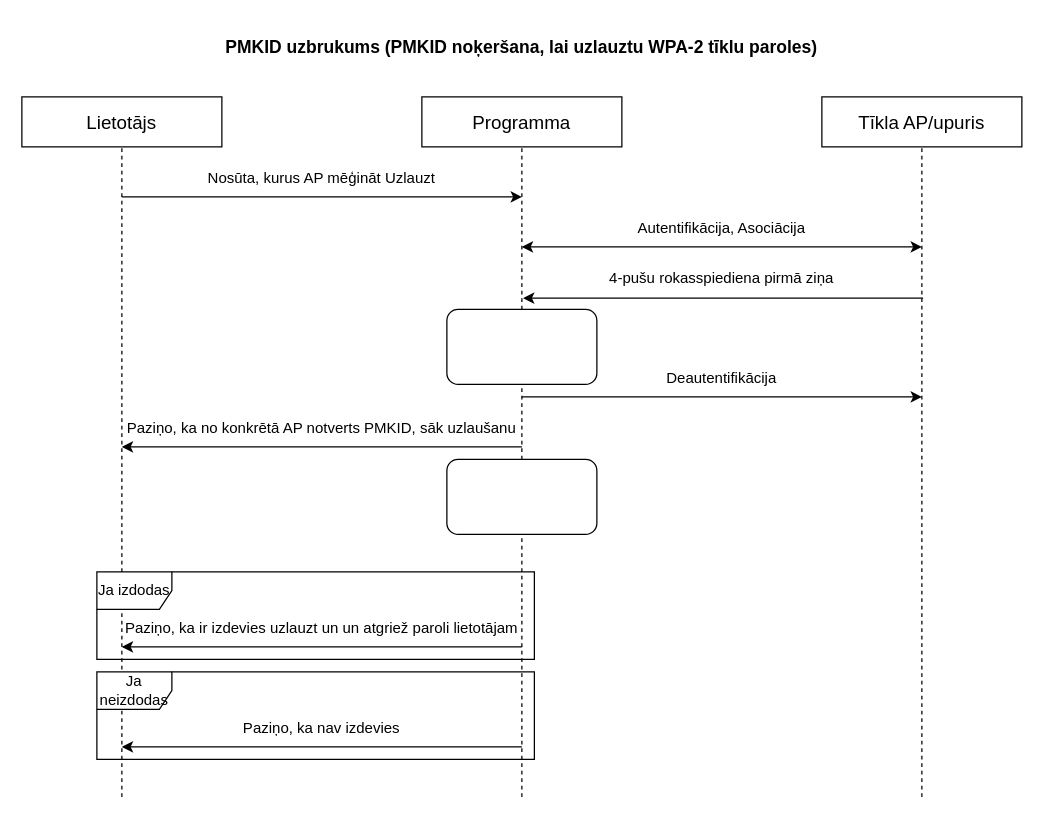
Image size: 1044x820. Some labels were removed from this diagram. The shapes that lost their labels are listed below. From the top down, each one's centre as x and y in pixels, then its label:
point 521,346: Notver PMKID, kas ir rokasspiediena ziņā
point 521,496: Mēģina uzlauzt PMKID
